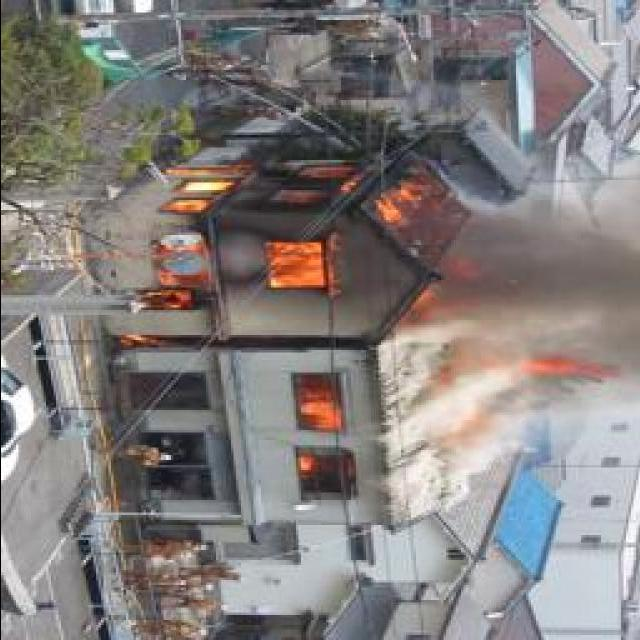Fire: (85, 161, 443, 327), (422, 344, 602, 384), (292, 370, 336, 496)
